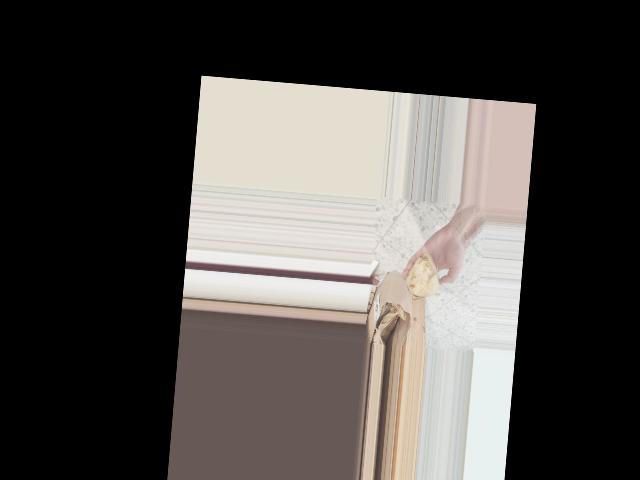onion: (403, 248, 443, 303)
